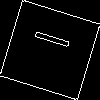I: (24, 24, 71, 51)
